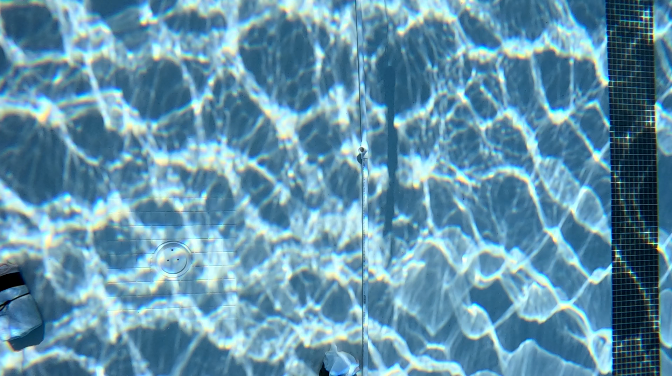sandbag: (0, 260, 41, 337), (318, 345, 357, 374)
